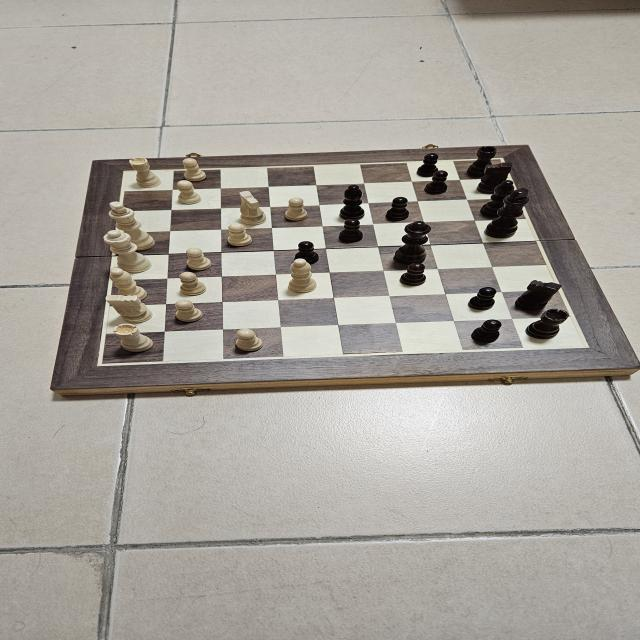chess-table-corners: (92, 359, 115, 369), (574, 342, 592, 350), (118, 169, 134, 176), (494, 156, 506, 162)
